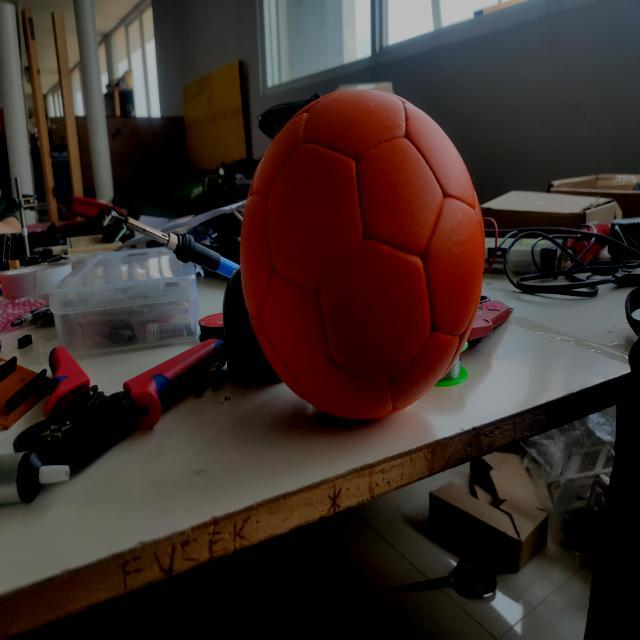bola: (231, 72, 491, 436)
